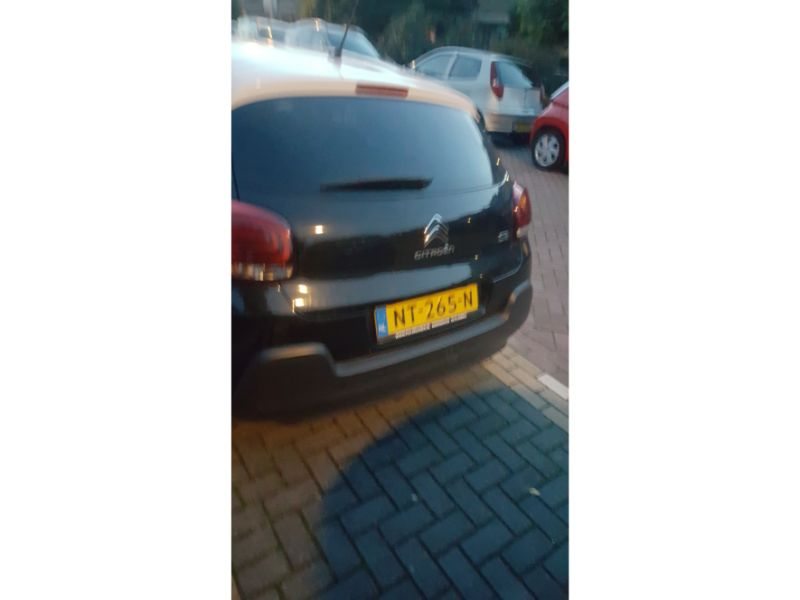kenteken: (373, 282, 486, 341)
